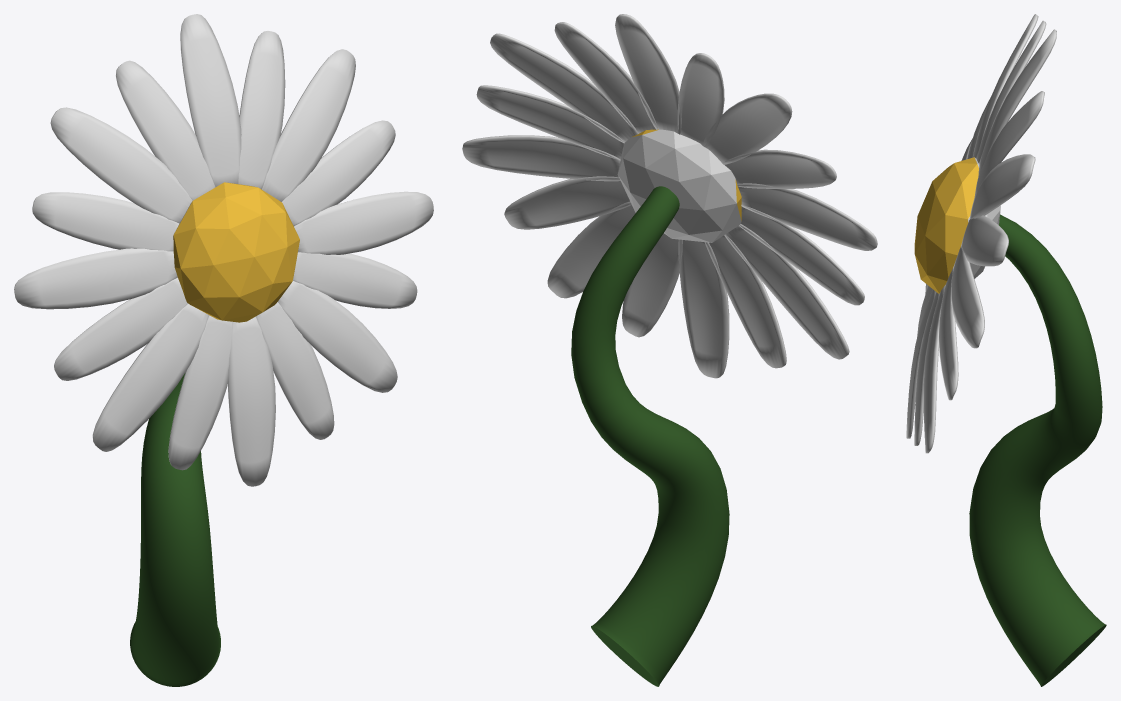
File: Blume1.fbx
3 renders of one model, left to right at view 1: azimuth 30°, elevation 25°; view 2: azimuth 150°, elevation 25°; view 3: azimuth 270°, elevation 25°, orthographic.
Parts seen in each view (by area): view 1: Plane.002, Plane.001, BezierCurve.004, Icosphere; view 2: Plane.002, BezierCurve.004, Plane.001, Icosphere; view 3: BezierCurve.004, Plane.002, Plane.001, Icosphere.
Part boxes in pixels (x1,y1,x2,y2): Plane.002: (14, 14, 433, 486); Plane.001: (32, 31, 417, 470); BezierCurve.004: (130, 373, 220, 686); Icosphere: (173, 182, 299, 322); Plane.002: (462, 14, 877, 378); BezierCurve.004: (571, 186, 729, 686); Plane.001: (476, 22, 864, 368); Icosphere: (617, 129, 741, 242); BezierCurve.004: (969, 214, 1106, 686); Plane.002: (906, 14, 1056, 453); Plane.001: (914, 20, 1046, 445); Icosphere: (914, 157, 1000, 293).
Bounding box in the file's own units: 162 × 247 × 67.99.
